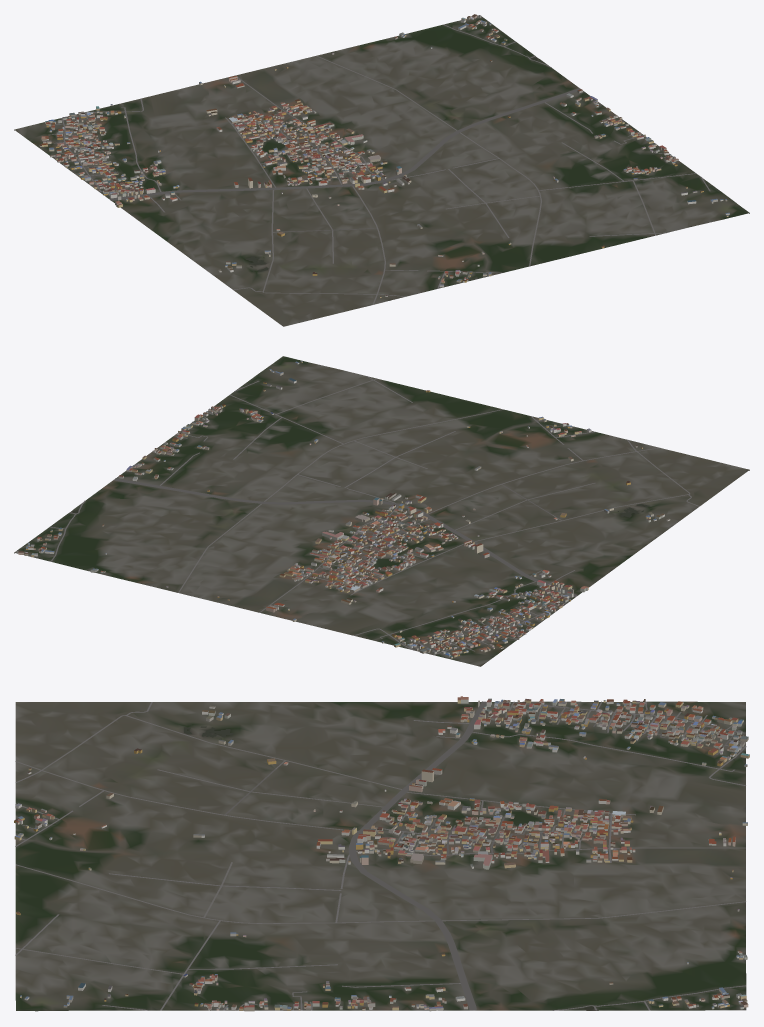
3 renders of one model, top to bottom at view 1: azimuth 30°, elevation 25°; view 2: azimuth 150°, elevation 25°; view 3: azimuth 270°, elevation 25°, orthographic. The views are drawn at different scales.
Visible parts, largest first — view 1: ground, buildings, roads; view 2: ground, buildings, roads; view 3: ground, buildings, roads.
Part boxes in pixels (x1=…): ground: x1=14, y1=16, x2=749, y2=326; buildings: x1=39, y1=14, x2=729, y2=297; roads: x1=48, y1=24, x2=710, y2=304; ground: x1=14, y1=356, x2=749, y2=666; buildings: x1=16, y1=361, x2=670, y2=658; roads: x1=49, y1=376, x2=699, y2=655; ground: x1=15, y1=701, x2=746, y2=1011; buildings: x1=14, y1=696, x2=749, y2=1011; roads: x1=15, y1=701, x2=746, y2=1010.
Bounding box in the file's own units: 1412 × 24 × 1413.
